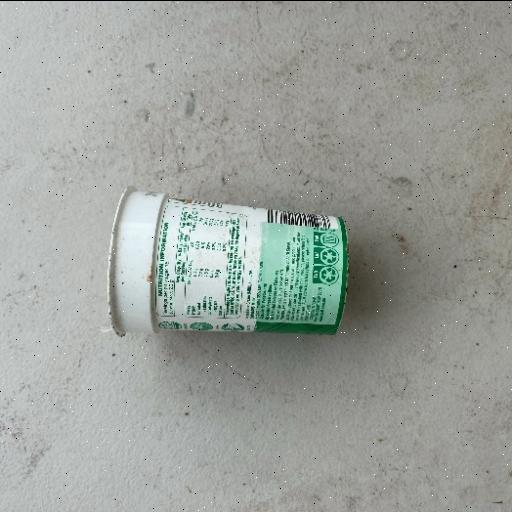Plastic: (106, 185, 350, 339)
